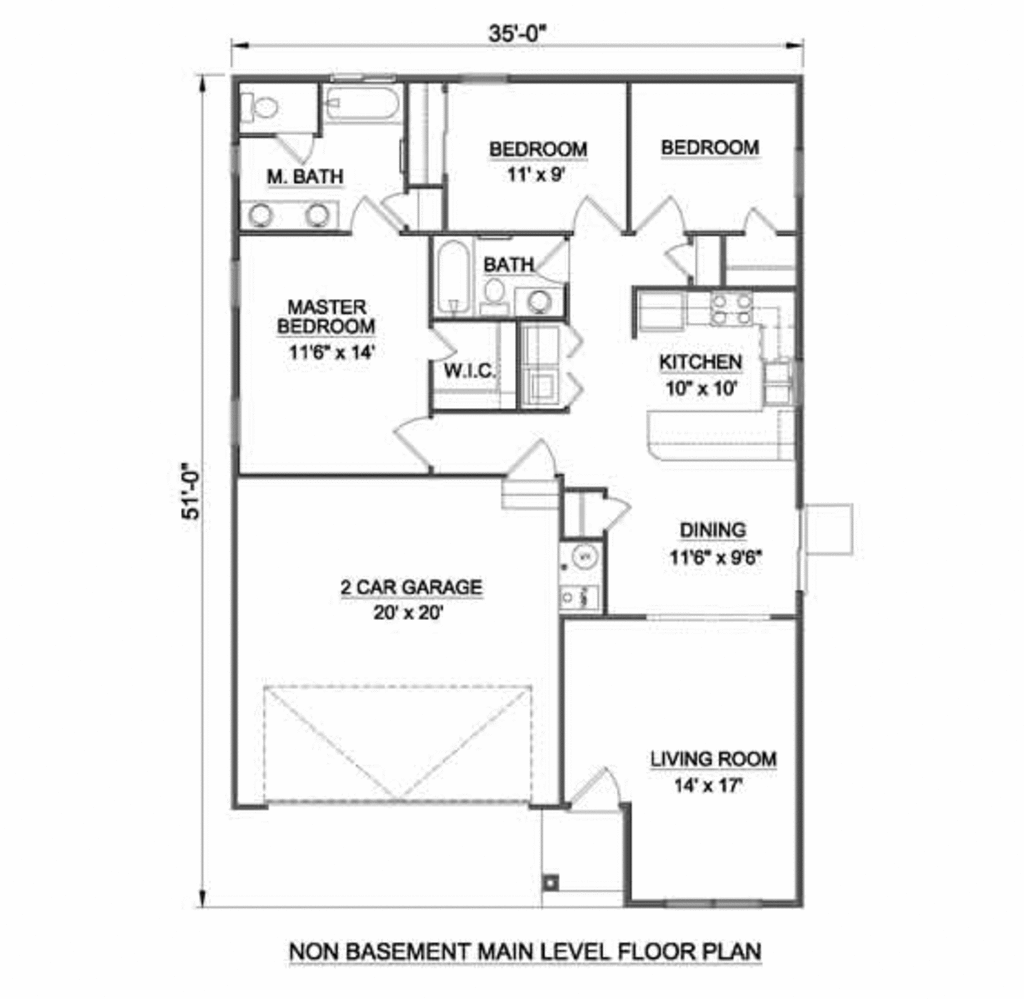door: (559, 759, 631, 813), (559, 177, 623, 232), (495, 437, 567, 485), (389, 409, 445, 470), (581, 487, 641, 538), (631, 188, 691, 234), (533, 232, 580, 287), (347, 193, 398, 237), (655, 235, 700, 282), (276, 129, 331, 165), (742, 201, 787, 241), (378, 182, 414, 229), (417, 324, 459, 360)
large_sink: (233, 85, 291, 134), (478, 271, 503, 312)
small_sink: (237, 196, 347, 234), (522, 287, 559, 316)
tub: (436, 231, 475, 315), (323, 85, 414, 121)
twin_sink: (756, 351, 806, 407)
window: (220, 248, 250, 315)
